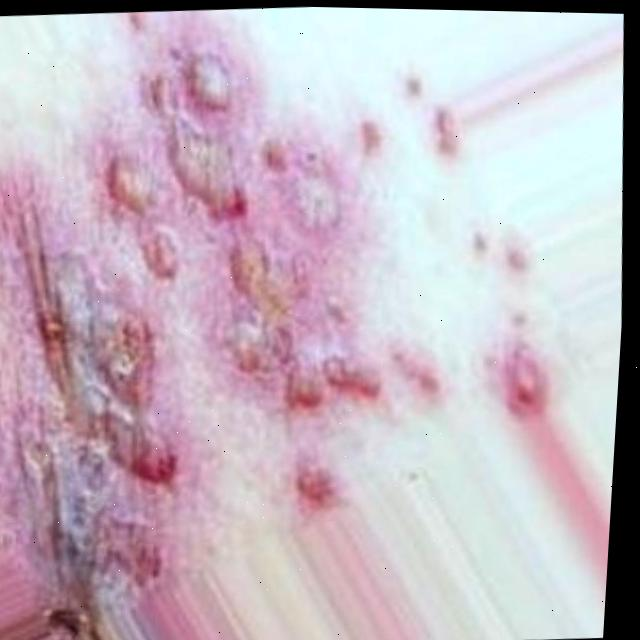Shingles: (11, 29, 480, 602)
